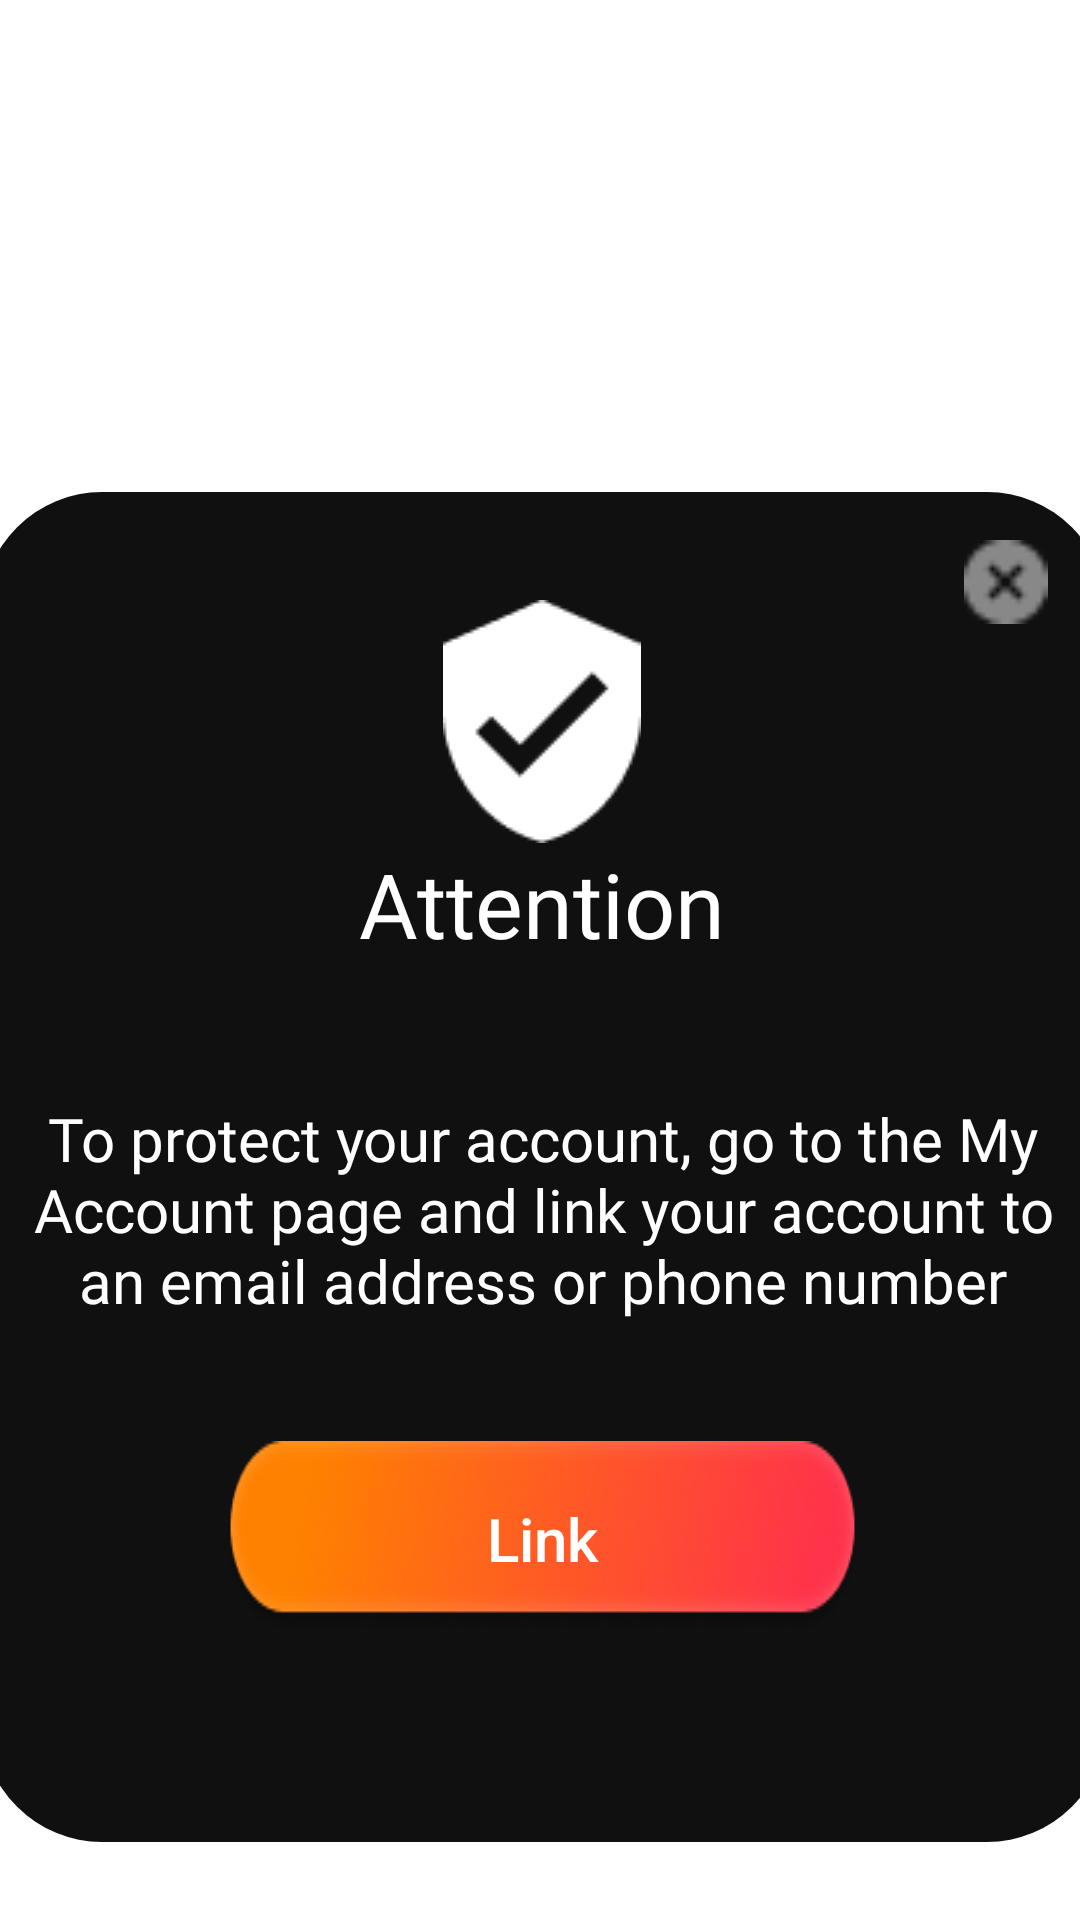

Icons on this 1080px×1920px Android screen, each with the point to tap as (x,y):
cross: (1006,582)
